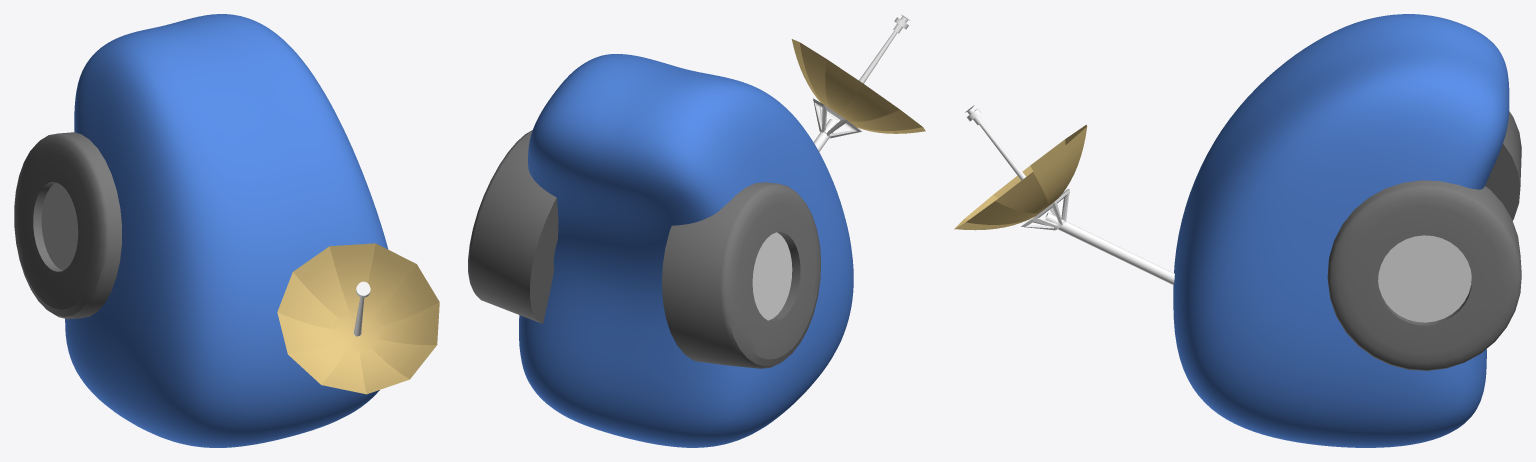
Rendered from rover.glb.
3 views of the same model, side by side, from view 1: azimuth 30°, elevation 25°; view 2: azimuth 150°, elevation 25°; view 3: azimuth 270°, elevation 25° (orthographic). The views are drawn at different scales.
Visible parts, largest first — view 1: Rover, Circle.001, Cylinder.001, Circle.003; view 2: Rover, Cylinder.001, Circle.001, Circle.005, Circle.003; view 3: Rover, Cylinder.001, Circle.001, Circle.004, Circle.005, Circle.003.
Part boxes in pixels (x1,y1,x2,y2): Rover: (65, 14, 388, 447); Circle.001: (277, 243, 439, 394); Cylinder.001: (14, 132, 121, 319); Circle.003: (354, 281, 370, 336); Rover: (519, 54, 853, 447); Cylinder.001: (468, 130, 820, 368); Circle.001: (791, 39, 925, 133); Circle.005: (813, 98, 861, 138); Circle.003: (859, 14, 910, 83); Rover: (1173, 14, 1509, 447); Cylinder.001: (1327, 111, 1521, 370); Circle.001: (954, 124, 1087, 230); Circle.004: (1044, 212, 1174, 285); Circle.005: (1021, 189, 1069, 230); Circle.003: (965, 105, 1026, 180).
Size of the model in its own units: 0.1916 by 0.232 by 0.3154.
